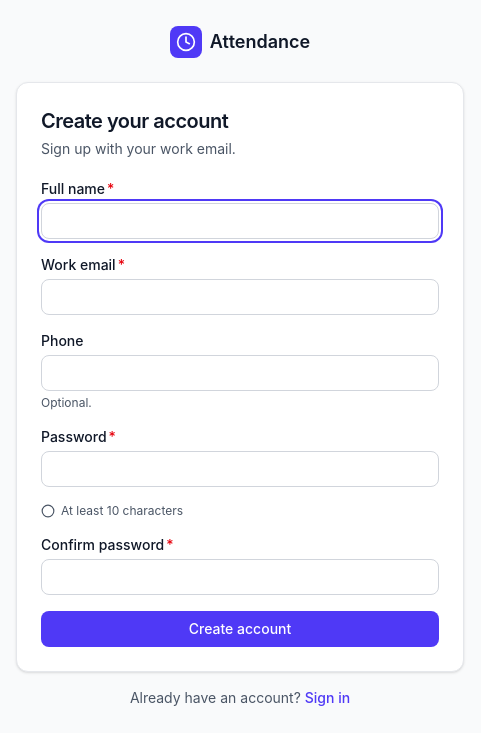
SignupPage › requires a 10+ character password
Type "Asha Rao" into the field labelled "Full name*" at (240, 221), box x1=41 y1=203 x2=439 y2=239
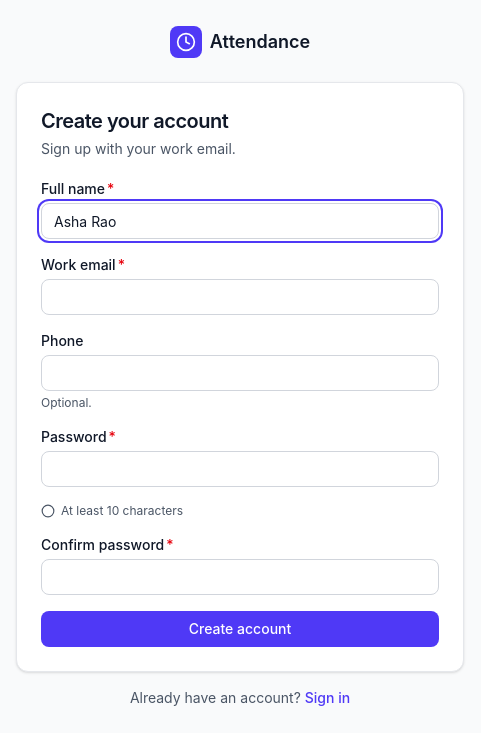
Type "asha@kxn.com" into the field labelled "Work email*" at (240, 297), box x1=41 y1=279 x2=439 y2=315
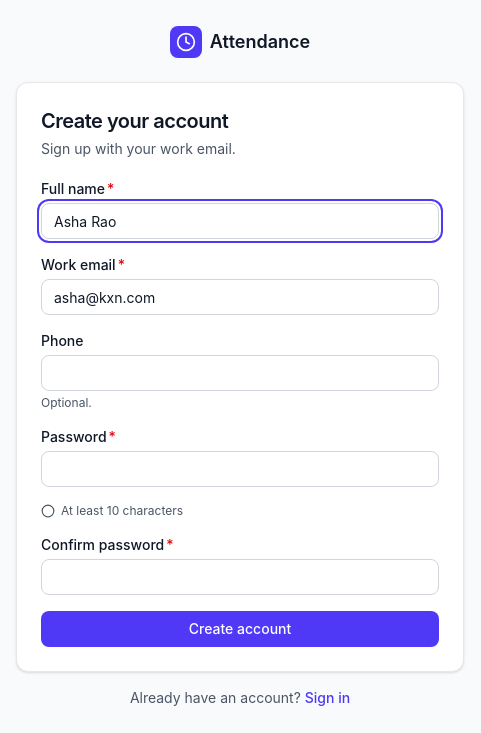
Type "Short1" into the password field labelled "Password*" at (240, 469), box x1=41 y1=451 x2=439 y2=487
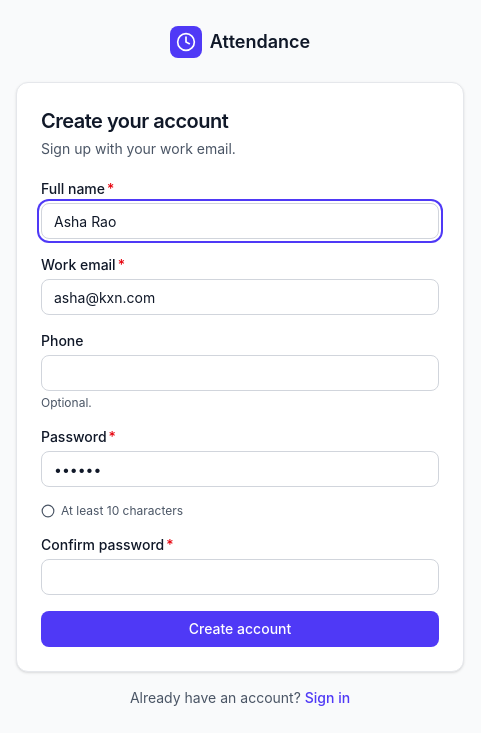
Type "Short1" into the password field labelled "Confirm password*" at (240, 577), box x1=41 y1=559 x2=439 y2=595
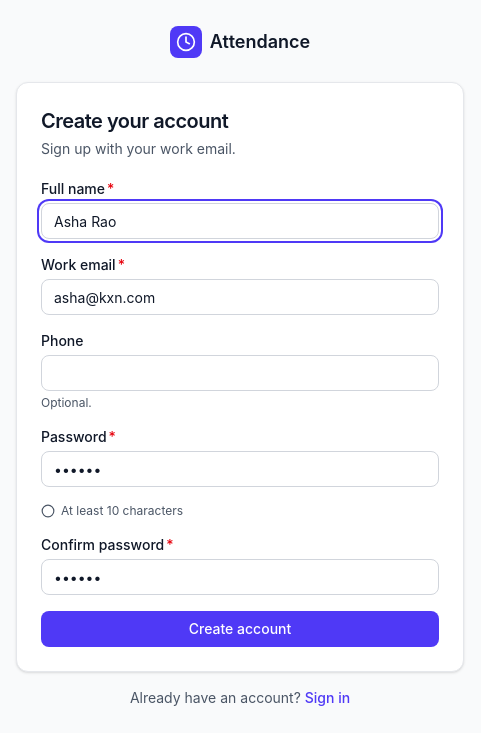
Click the button "Create account" at (240, 629), box x1=41 y1=611 x2=439 y2=647
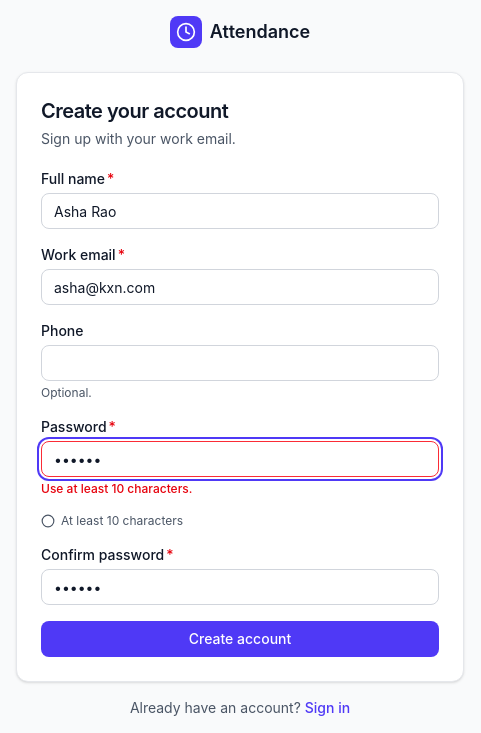
Check: the text "Use at least 10 characters." is shown, box x1=41 y1=481 x2=192 y2=496
